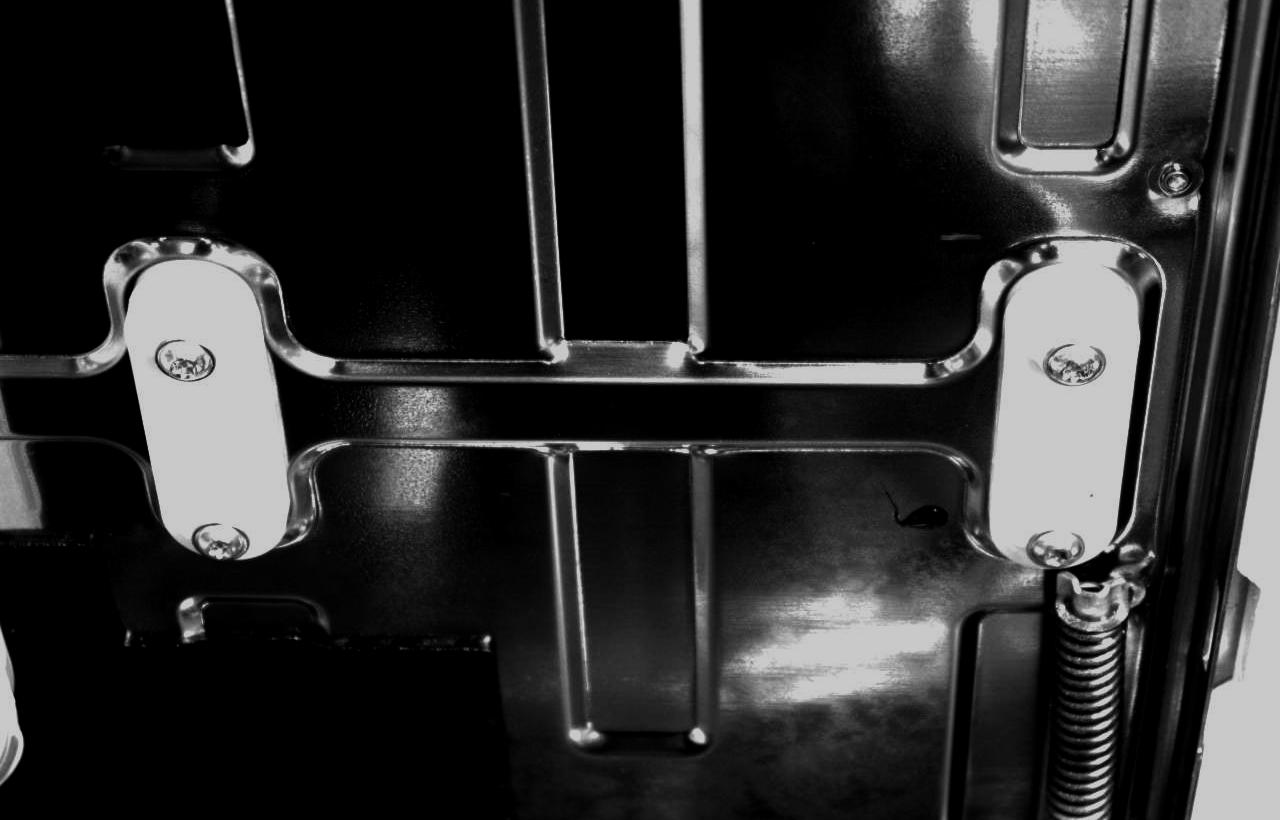vida-ok: (141, 322, 227, 400), (1029, 327, 1117, 400), (182, 509, 262, 573), (1018, 520, 1094, 578)
